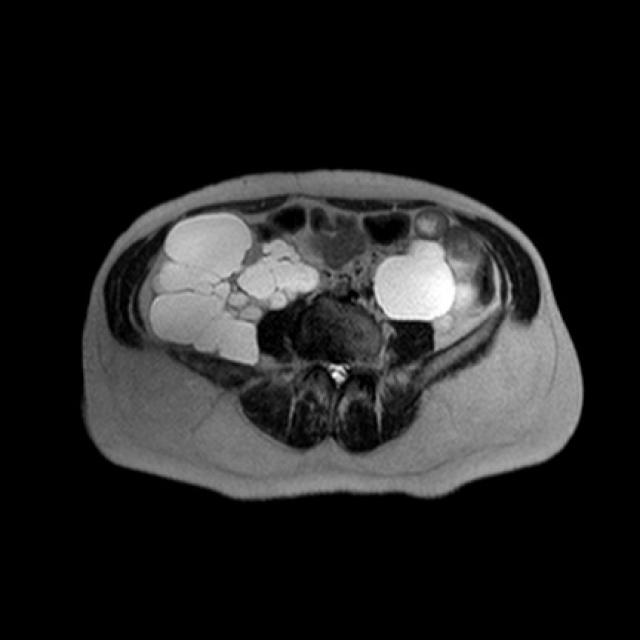sag: (144, 210, 320, 367)
sol: (371, 237, 474, 335)
